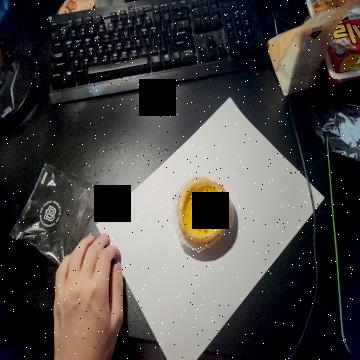EggTart: (175, 176, 231, 246)
